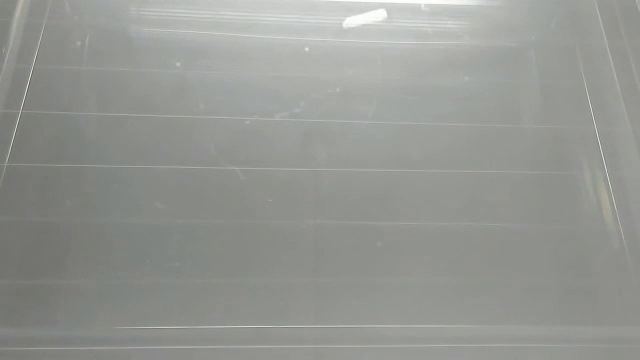alpha: (342, 6, 389, 30)
